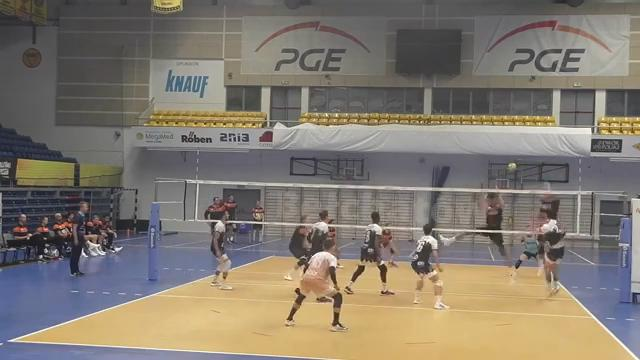Attack: (530, 204, 567, 304)
Player: (285, 239, 346, 331), (344, 212, 394, 295), (411, 224, 448, 309), (478, 193, 510, 268), (210, 212, 232, 289), (512, 233, 542, 280), (284, 225, 308, 280), (308, 210, 328, 257), (309, 210, 328, 255), (328, 219, 342, 268), (381, 229, 397, 266)
ball: (506, 161, 517, 173)
